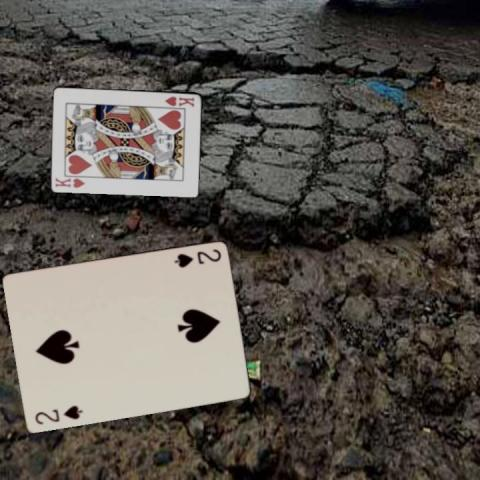2s: (172, 245, 223, 269), (32, 402, 84, 425)
Kh: (162, 93, 196, 108), (53, 175, 87, 189)
